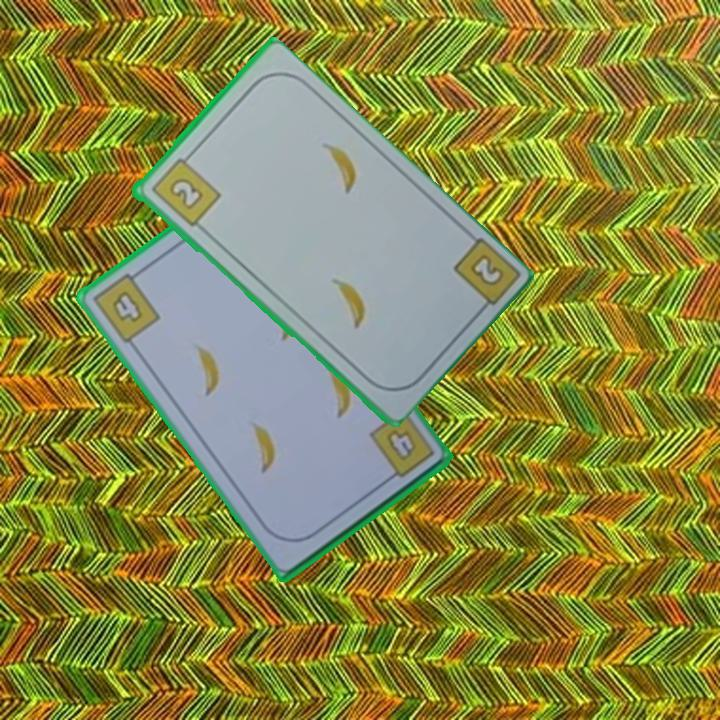2b: (147, 149, 223, 230), (465, 250, 506, 289)
4b: (89, 265, 163, 346), (365, 406, 438, 486)
